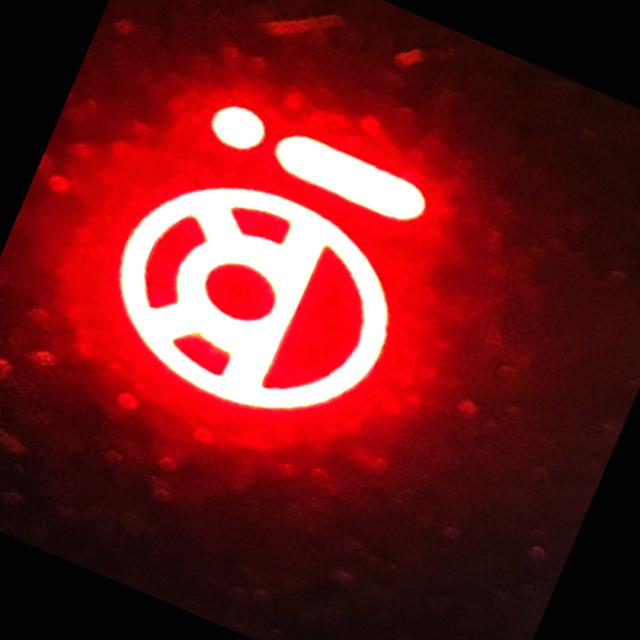kontrolka: (52, 46, 504, 498)
